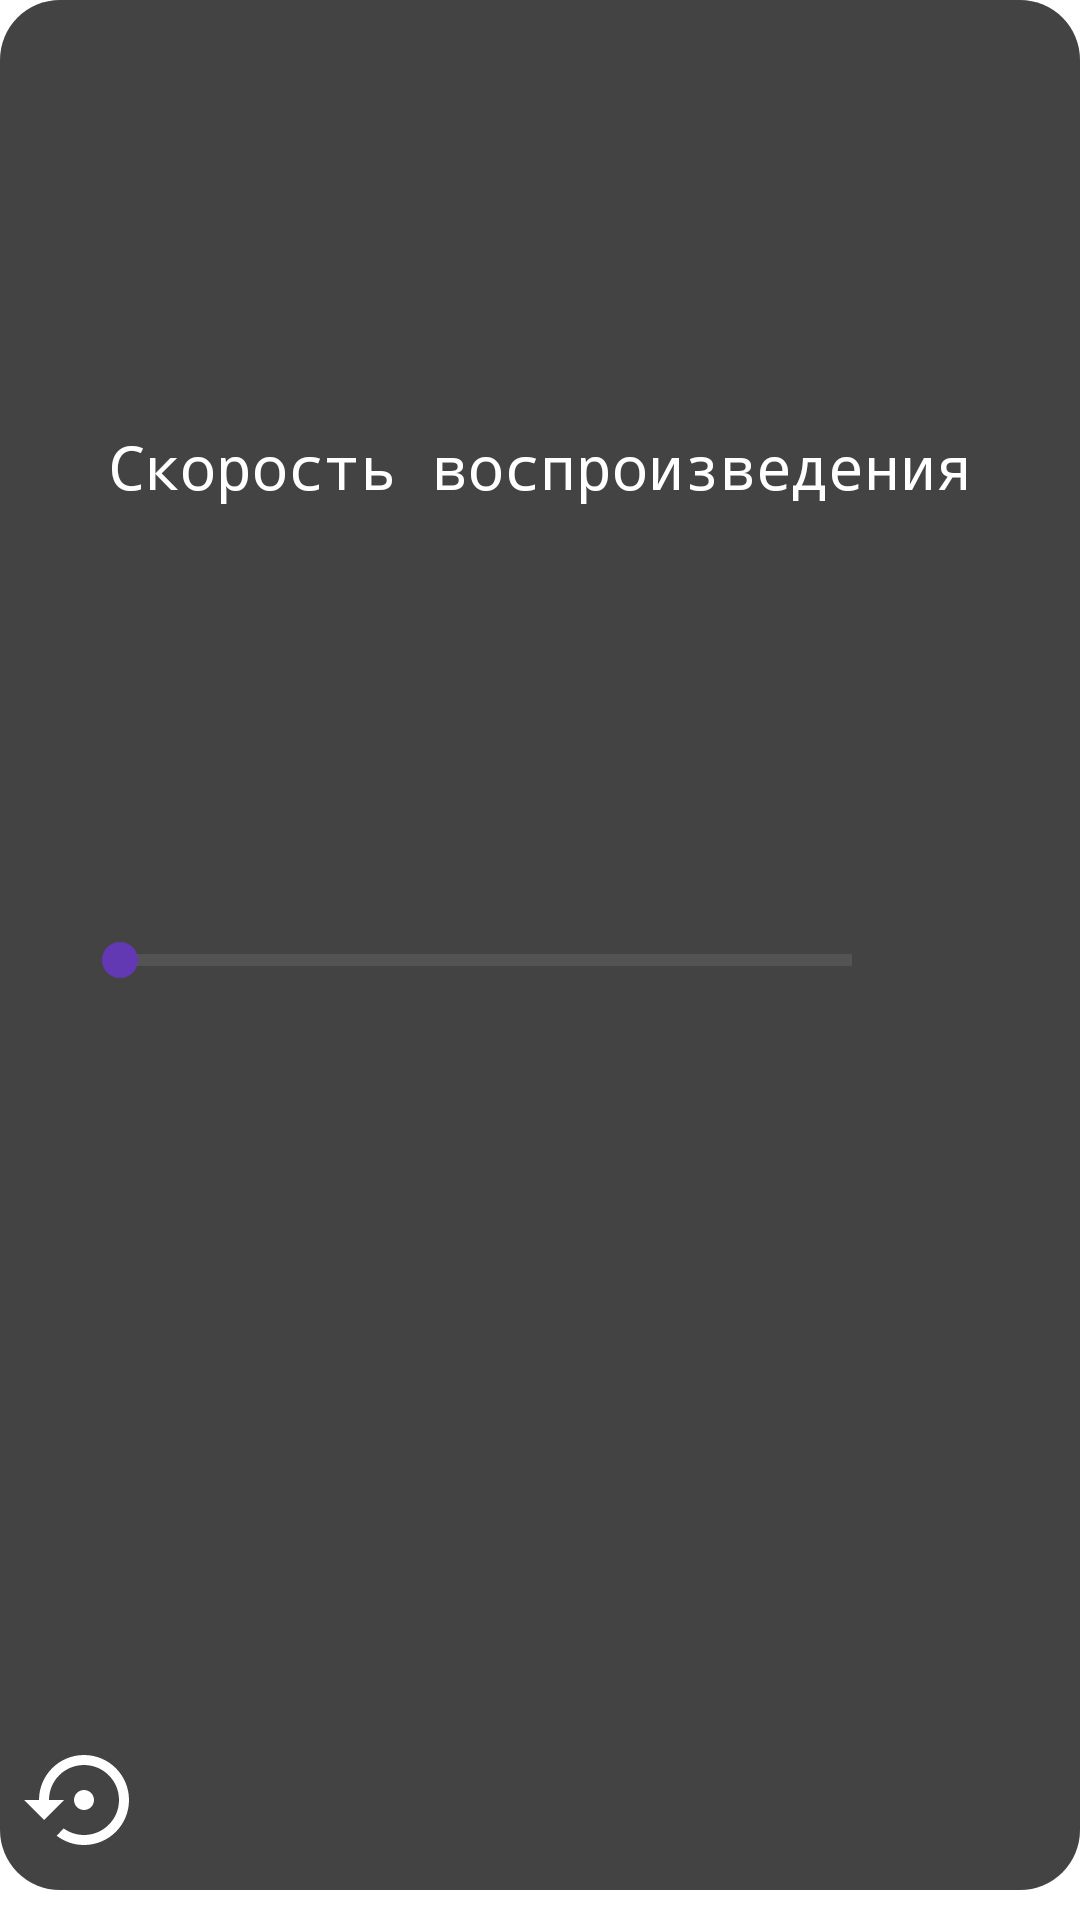

Locate icon controls on the screen. Image size 1080 x 1920, boxes as (x1, y1, x2, y2).
settings backup: (24, 1755, 129, 1845)
